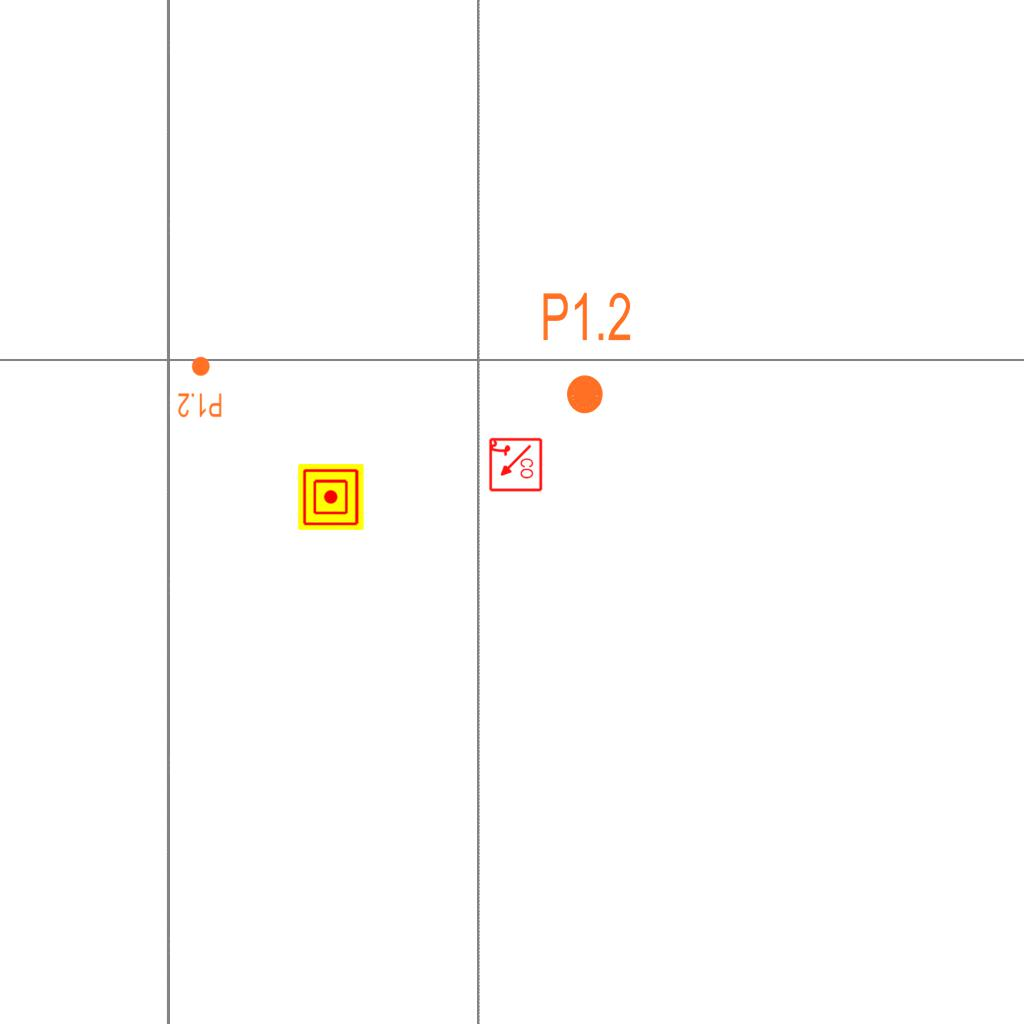Downlight_LED_Einbauleuchten_Flur: (540, 289, 633, 417), (177, 355, 223, 419)
NAM-Nichtautomatischer_Melder: (298, 464, 364, 530)
ROA_Rauchmelder_optisch_mit_Signalgeber_(Sockelsirene): (487, 437, 543, 493)
